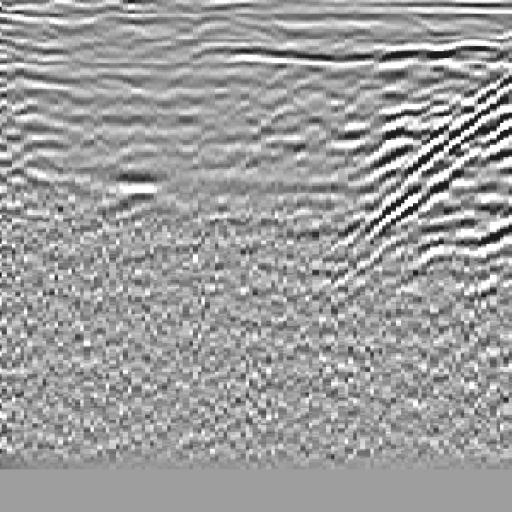metalic: (67, 32, 204, 244)
nonmetalic: (335, 48, 512, 291)
